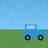vehicle: (23, 24, 46, 40)
